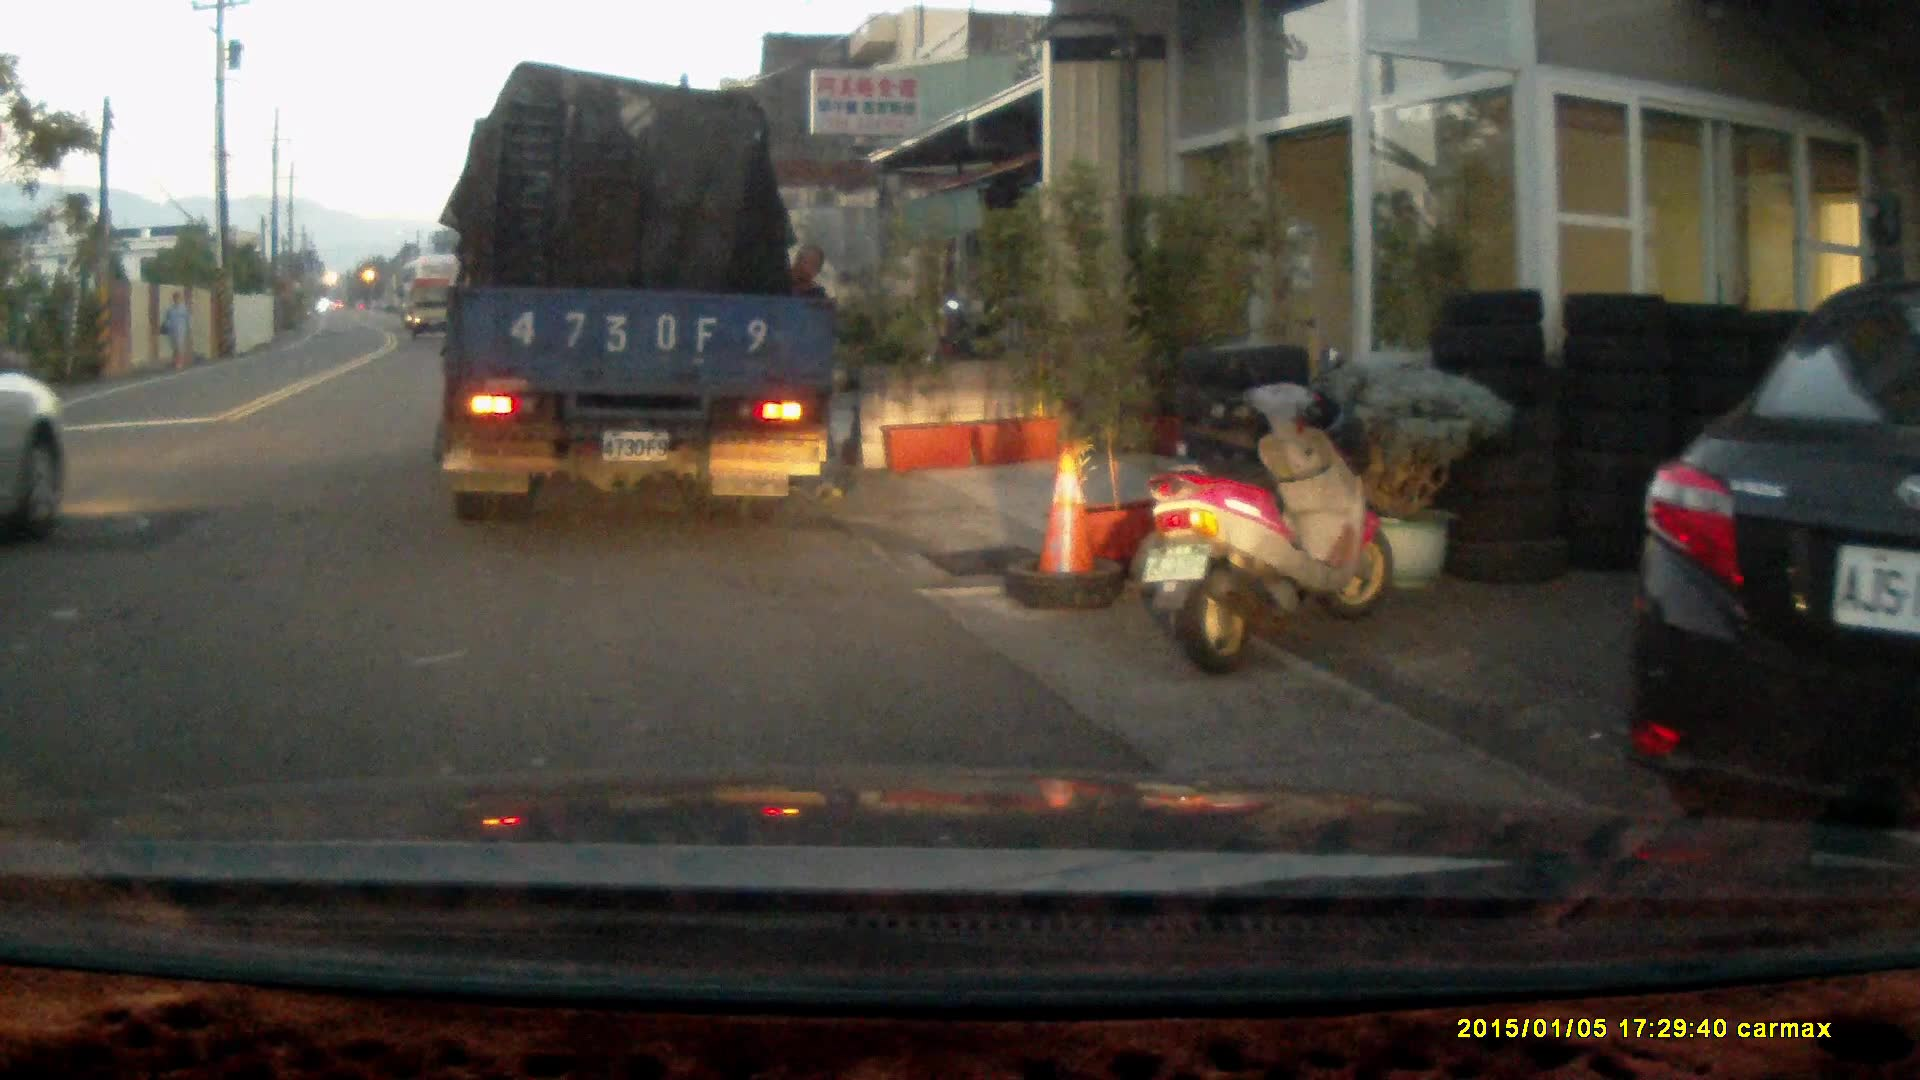pedestrian: (159, 289, 192, 363)
vehicle: (433, 74, 846, 511), (1618, 275, 1920, 865), (1, 364, 73, 534), (401, 251, 467, 330), (410, 282, 461, 338)
